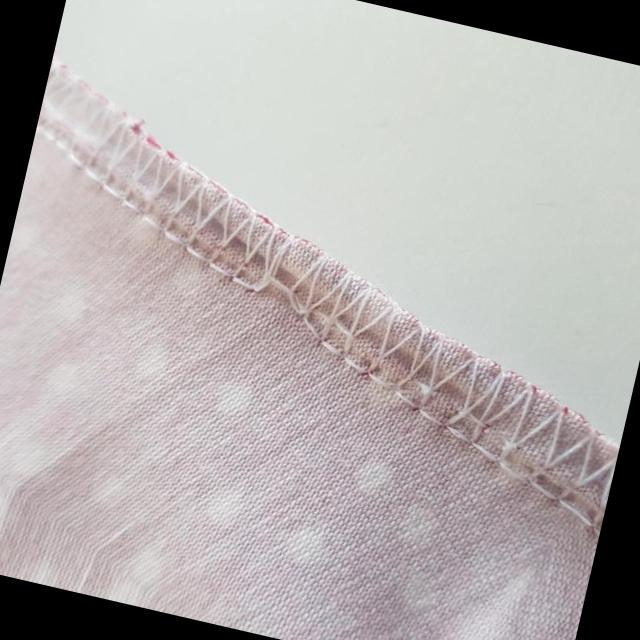gray stitch: (175, 181, 438, 385), (380, 322, 636, 526), (20, 56, 226, 247)
